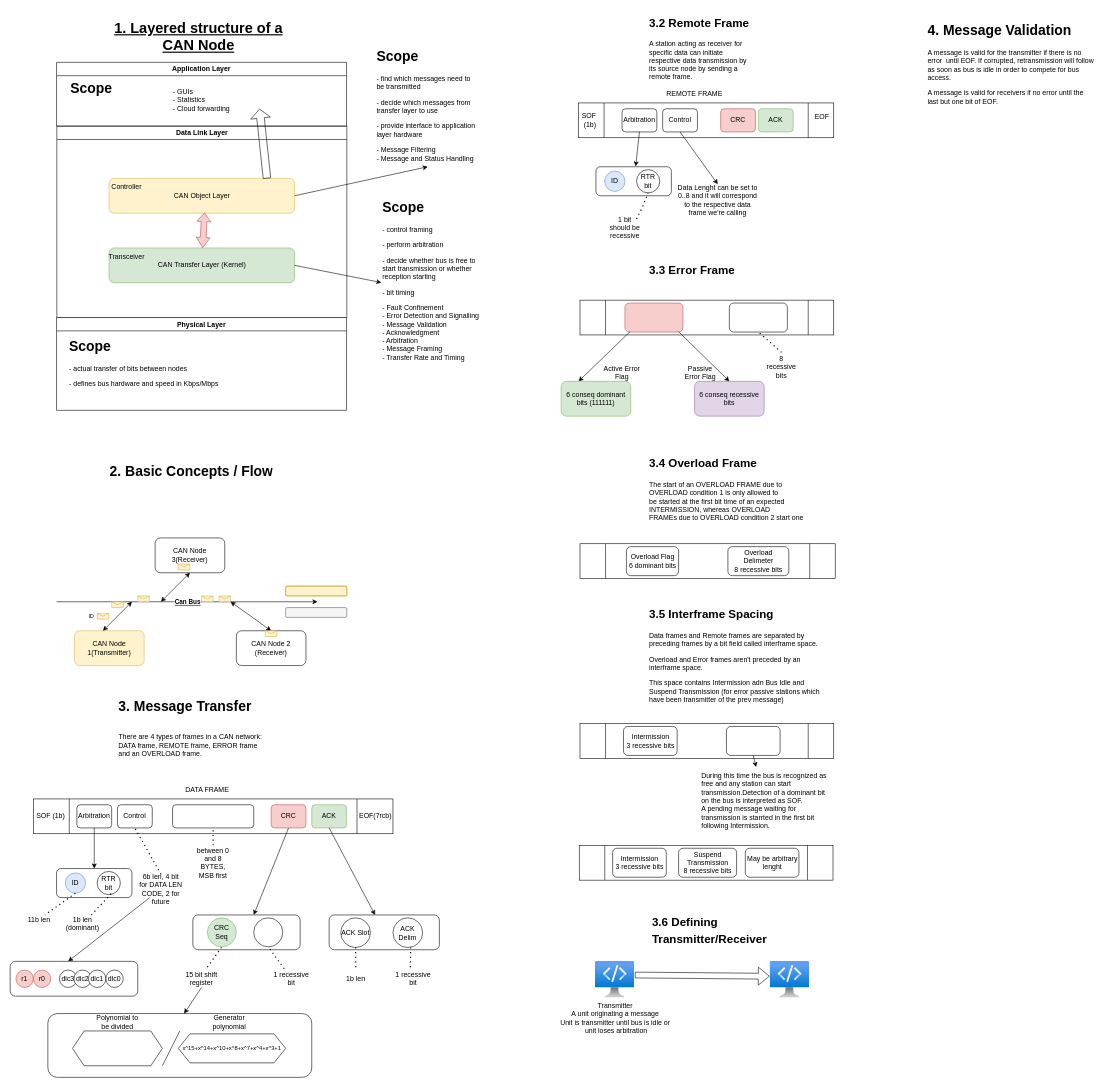
Some shapes in this 1105 by 1088 pixel diagram are drawn without their labels. Each missing label, with the centre of its shape:
Bus Idle May be arbitrary lenght: pixel 753 740
CRC Delim: pixel 268 932
Data: pixel 213 816
destuffed bit stream of SOF, ARBITR, CTRL, DATA field and 15 lowest coeff by 0: pixel 117 1048
Error Delimiter: pixel 758 317
Error Flag: pixel 653 317
Free: pixel 316 612
Receiver A unit who is not Transmitter of that message and the bus is not idle: pixel 789 979
Transmitting: pixel 316 590
